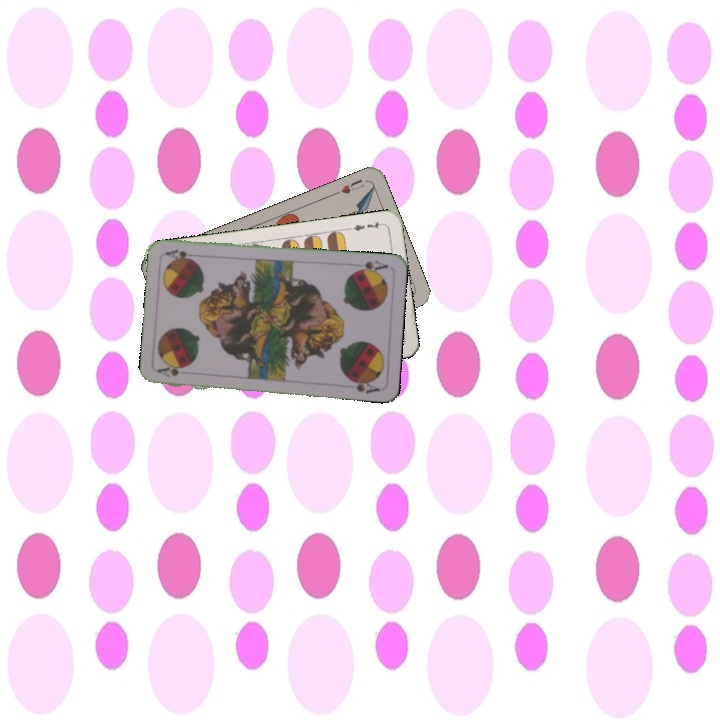E7: (346, 217, 386, 234)
HU: (330, 175, 367, 198)
SA: (350, 257, 390, 276), (154, 363, 187, 379)
